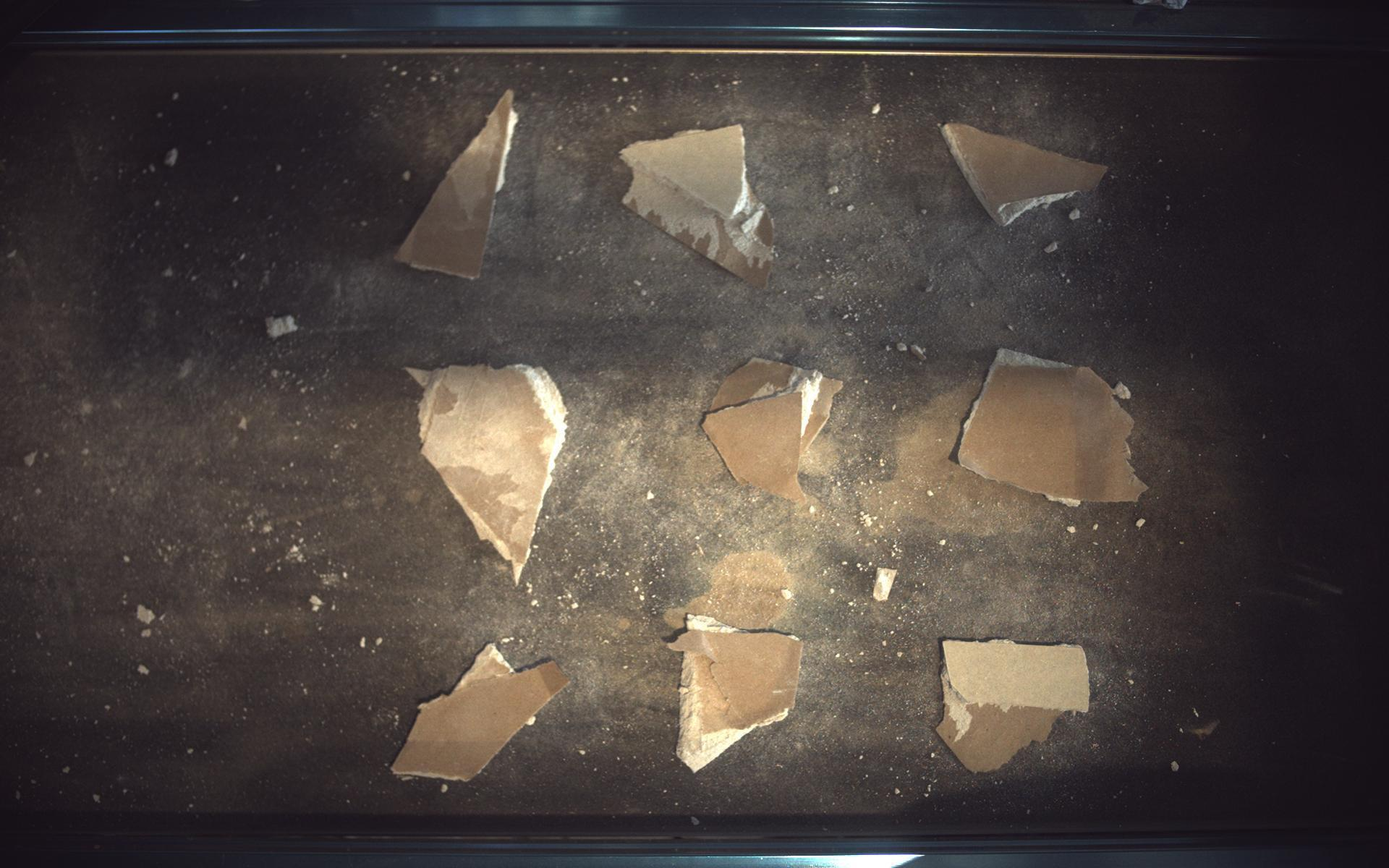gypsum_board: (407, 365, 567, 584), (960, 349, 1149, 506), (621, 124, 775, 287), (391, 644, 569, 783), (395, 89, 518, 278), (670, 616, 804, 773), (938, 640, 1092, 773), (705, 358, 844, 503), (944, 122, 1110, 225)
